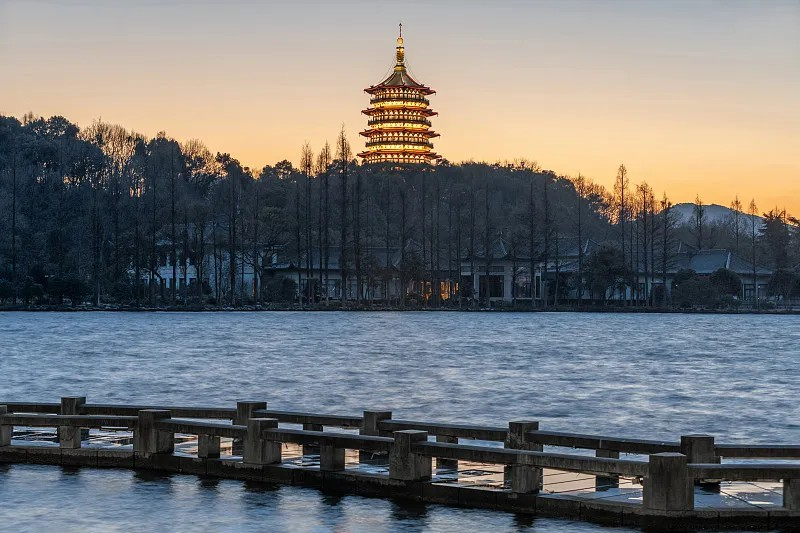Leifeng: (357, 22, 442, 167)
